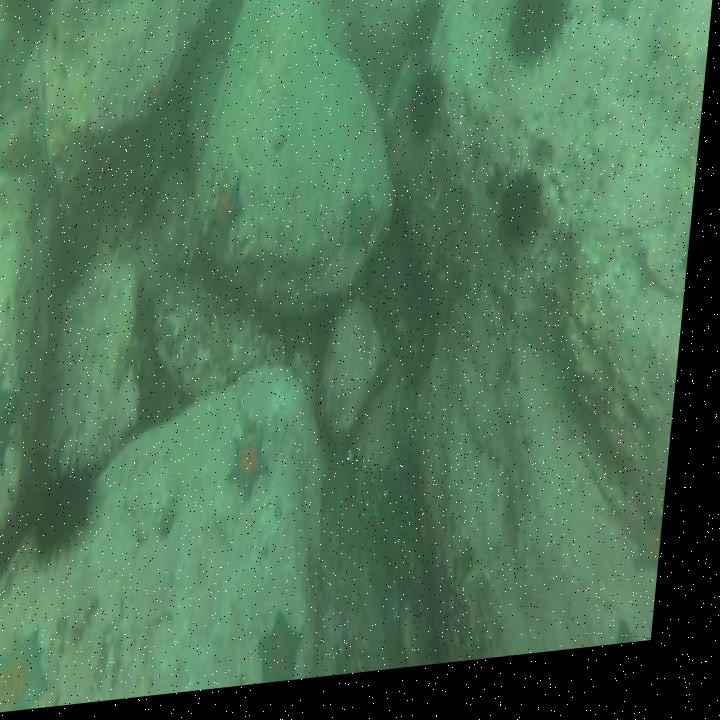echinus: (33, 447, 115, 575), (501, 0, 580, 91), (495, 160, 558, 271), (402, 66, 455, 161), (398, 0, 447, 80)
starfish: (0, 623, 70, 716), (265, 610, 322, 692), (235, 427, 286, 515), (0, 358, 32, 487), (208, 181, 254, 255), (346, 191, 388, 272), (637, 519, 676, 594), (595, 0, 643, 47)
